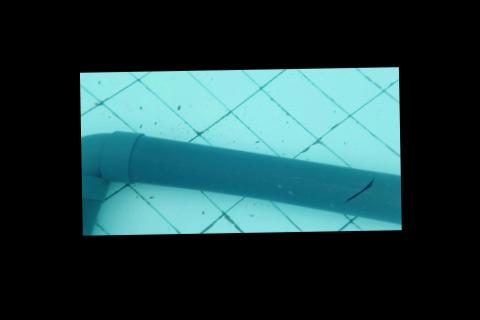keretakan: (342, 176, 374, 203)
